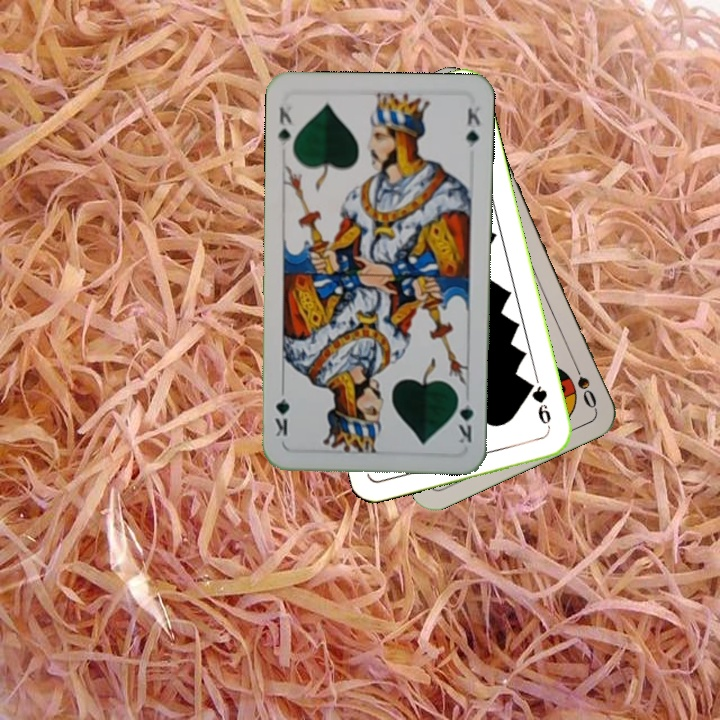G9: (524, 378, 554, 433)
GK: (454, 389, 476, 446), (274, 101, 297, 155)
SO: (567, 355, 600, 411)
